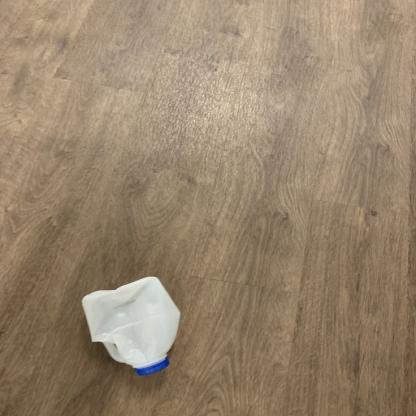trash: (80, 274, 184, 375)
